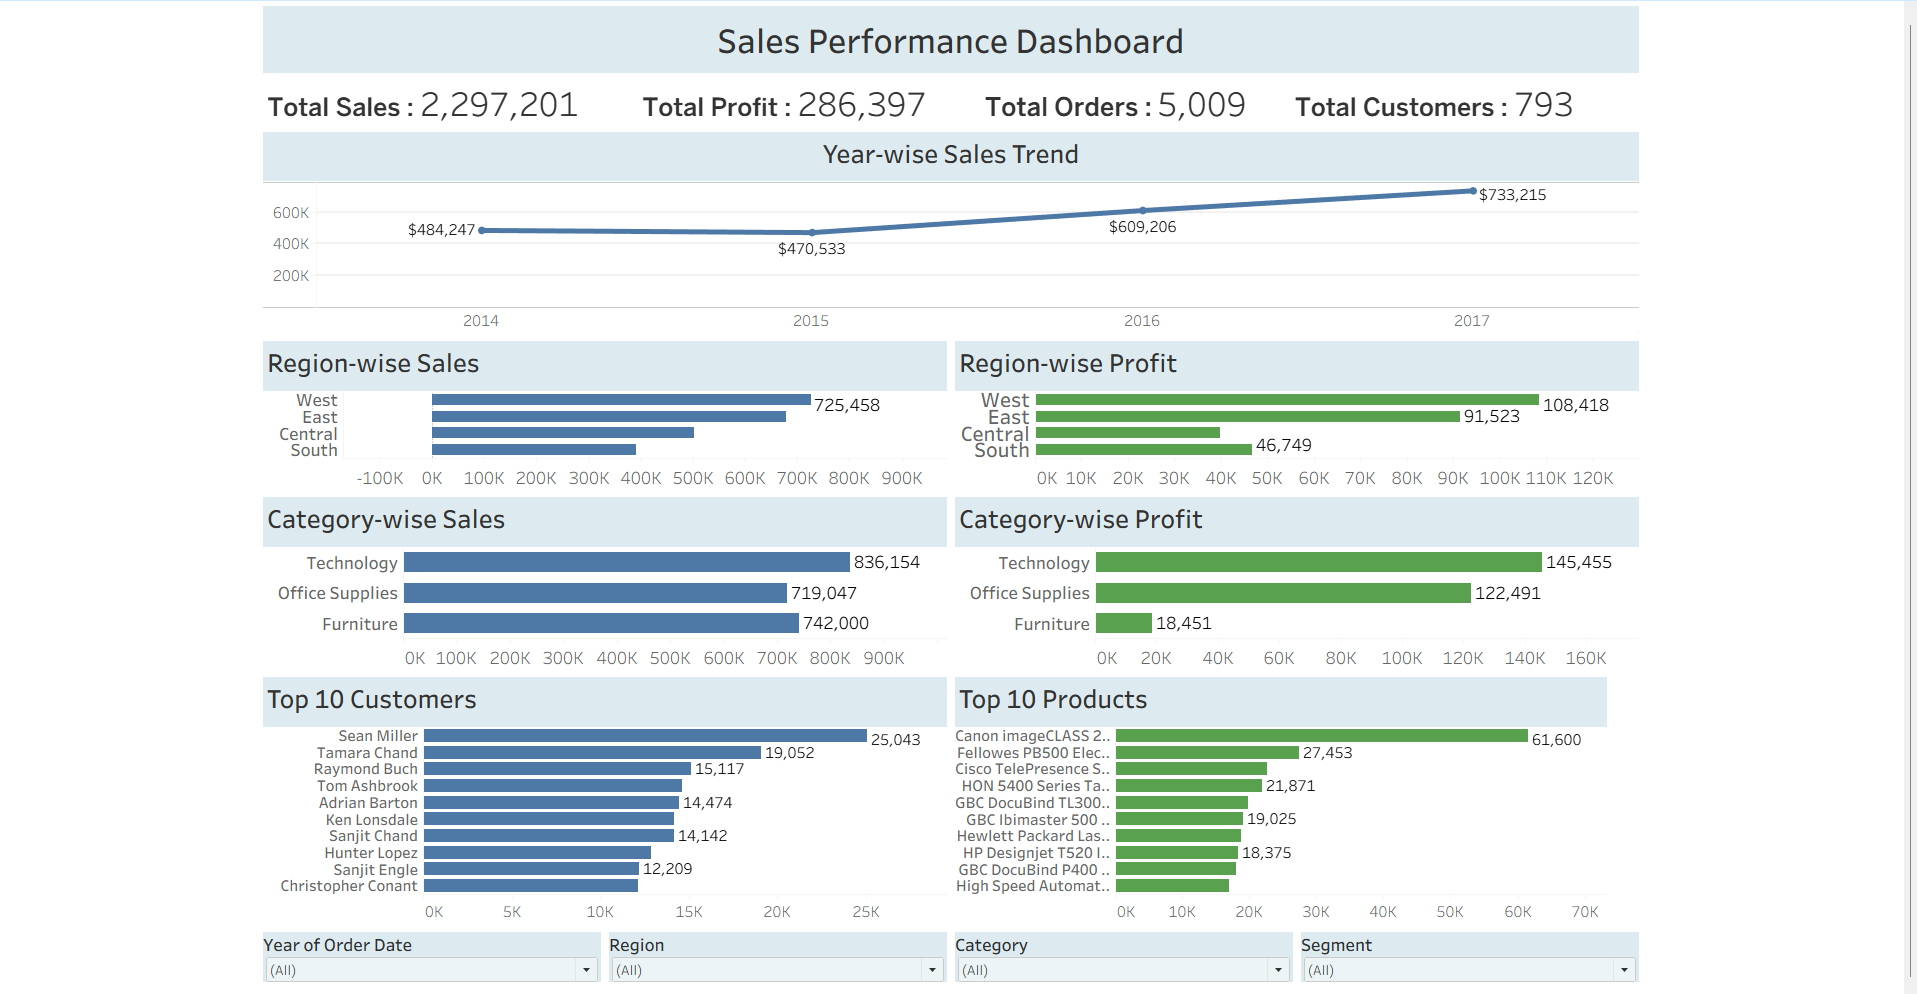

What the dashboard file says about the page in this screenshot:
{"tool":"tableau","page":{"name":"Sales Performance Dashboard","canvas":[1400,1000],"ordinal":0},"visuals":[{"type":"title","box":[8,8,1384,75]},{"type":"worksheet","title":"KPI - Total Sales","mark":"Text","box":[8,83,375,50.8]},{"type":"worksheet","title":"KPI - Total Profit","mark":"Text","box":[383,83,343,50.8]},{"type":"worksheet","title":"KPI - Total Orders","mark":"Text","box":[726,83,310,50.8]},{"type":"worksheet","title":"KPI - Total Customers","mark":"Text","box":[1036,83,356,50.8]},{"type":"worksheet","title":"Year-wise Sales Trend","mark":"Automatic","rows":["Sales"],"cols":["Order Date"],"box":[8,133.8,1384,209.2]},{"type":"worksheet","title":"Region-wise Sales","mark":"Automatic","rows":["Region"],"cols":["Sales"],"box":[8,343,692,156]},{"type":"worksheet","title":"Region-wise Profit","mark":"Automatic","rows":["Region"],"cols":["Profit"],"box":[700,343,692,156]},{"type":"worksheet","title":"Category-wise Sales","mark":"Automatic","rows":["Category"],"cols":["Sales"],"box":[8,499,692,179.8]},{"type":"worksheet","title":"Category-wise Profit","mark":"Automatic","rows":["Category"],"cols":["Profit"],"box":[700,499,692,179.8]},{"type":"worksheet","title":"Top 10 Customers","mark":"Automatic","rows":["Customer Name"],"cols":["Sales"],"box":[8,678.7,692,255.4]},{"type":"worksheet","title":"Top 10 Products","mark":"Automatic","rows":["Product Name"],"cols":["Sales"],"box":[700,678.7,660,255.4]},{"type":"text","box":[1360,678.7,32,255.4]},{"type":"filter","title":"Category-wise Profit","param":"[federated.0k1ejwq1dunycb19y6job18dk5jt].[yr:Order Date:ok]","box":[8,934.1,346,57.9]},{"type":"filter","title":"Category-wise Profit","param":"[federated.0k1ejwq1dunycb19y6job18dk5jt].[none:Region:nk]","box":[354,934.1,346,57.9]},{"type":"filter","title":"Category-wise Profit","param":"[federated.0k1ejwq1dunycb19y6job18dk5jt].[none:Category:nk]","box":[700,934.1,346,57.9]},{"type":"filter","title":"Category-wise Profit","param":"[federated.0k1ejwq1dunycb19y6job18dk5jt].[none:Segment:nk]","box":[1046,934.1,346,57.9]}]}

Visuals, with their boxes on the page's 1400x1000 design canvas (x1, y1, x2, y2). These are canvas units, not pixel positions in the 1917x994 screenshot, which may show the page scaled, cropped or inside an application window:
title: 8:8:1392:83
"KPI - Total Sales" worksheet (Text marks): 8:83:383:134
"KPI - Total Profit" worksheet (Text marks): 383:83:726:134
"KPI - Total Orders" worksheet (Text marks): 726:83:1036:134
"KPI - Total Customers" worksheet (Text marks): 1036:83:1392:134
"Year-wise Sales Trend" worksheet: 8:134:1392:343
"Region-wise Sales" worksheet: 8:343:700:499
"Region-wise Profit" worksheet: 700:343:1392:499
"Category-wise Sales" worksheet: 8:499:700:679
"Category-wise Profit" worksheet: 700:499:1392:679
"Top 10 Customers" worksheet: 8:679:700:934
"Top 10 Products" worksheet: 700:679:1360:934
text: 1360:679:1392:934
"Category-wise Profit" filter: 8:934:354:992
"Category-wise Profit" filter: 354:934:700:992
"Category-wise Profit" filter: 700:934:1046:992
"Category-wise Profit" filter: 1046:934:1392:992
